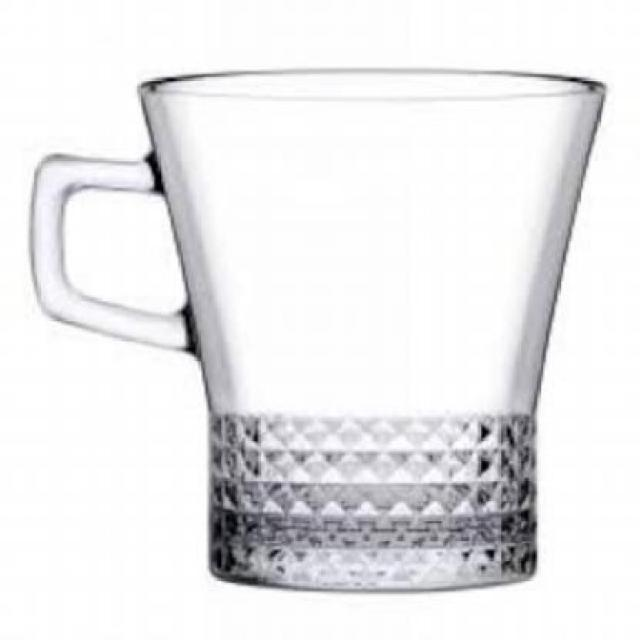taza: (32, 68, 610, 592)
